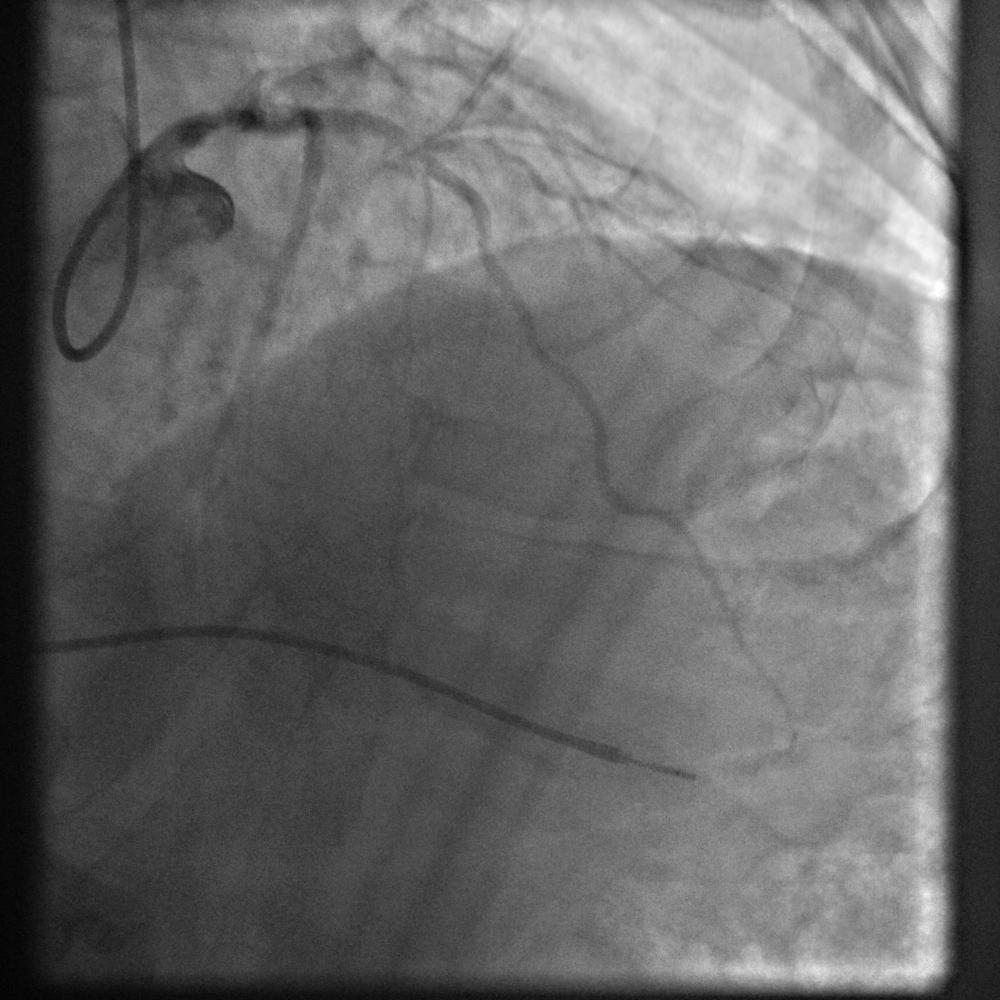Stenosis: (392, 125, 437, 165)
